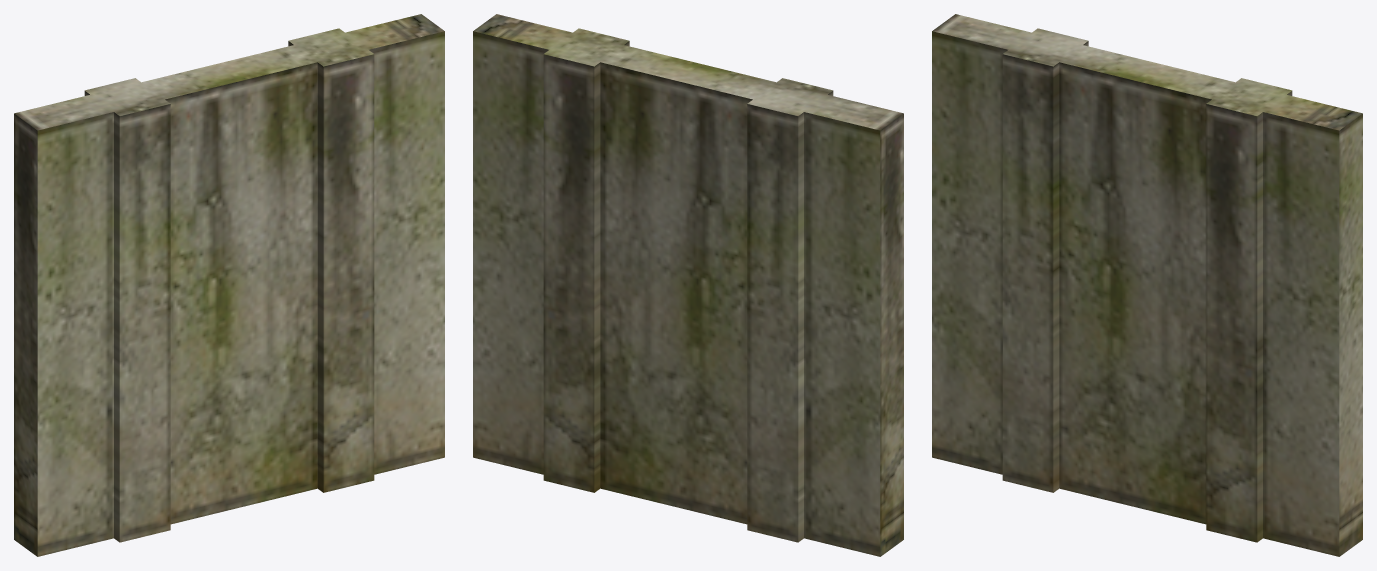
The model's file is MO_WALL_S-C_02.fbx.
3 renders of one model, left to right at view 1: azimuth 30°, elevation 25°; view 2: azimuth 150°, elevation 25°; view 3: azimuth 330°, elevation 25°, orthographic.
Visible parts, largest first — view 1: MO_WALL_S-C_02; view 2: MO_WALL_S-C_02; view 3: MO_WALL_S-C_02.
Part boxes in pixels (left/top/right/bottom): MO_WALL_S-C_02: left=14, top=14, right=444, bottom=556; MO_WALL_S-C_02: left=473, top=14, right=903, bottom=556; MO_WALL_S-C_02: left=932, top=14, right=1362, bottom=556.
Size of the model in its own units: 4 by 4 by 0.6.
